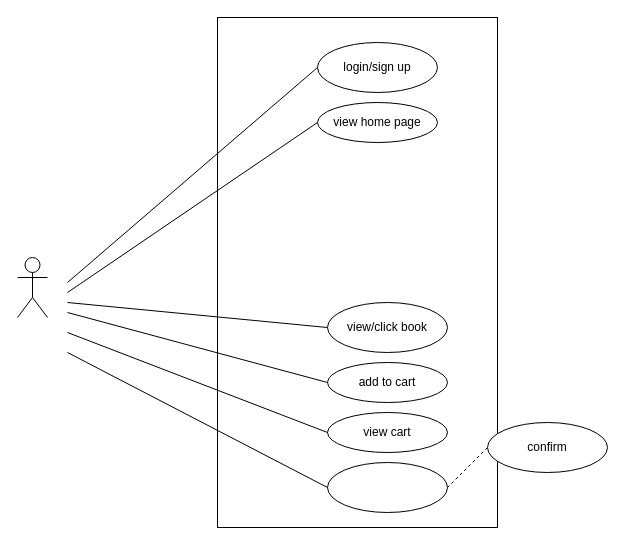
Image size: 625x545. Some labels were removed from this diagram. Each missing label, with the centre of its shape:
"proceed to checkout" goes at pixel 387 487.
"user" goes at pixel 32 287.
